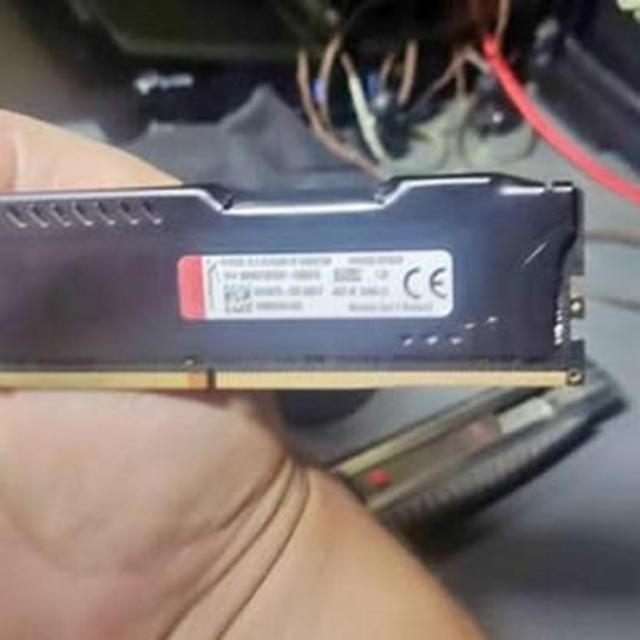RAM: (0, 156, 598, 408)
